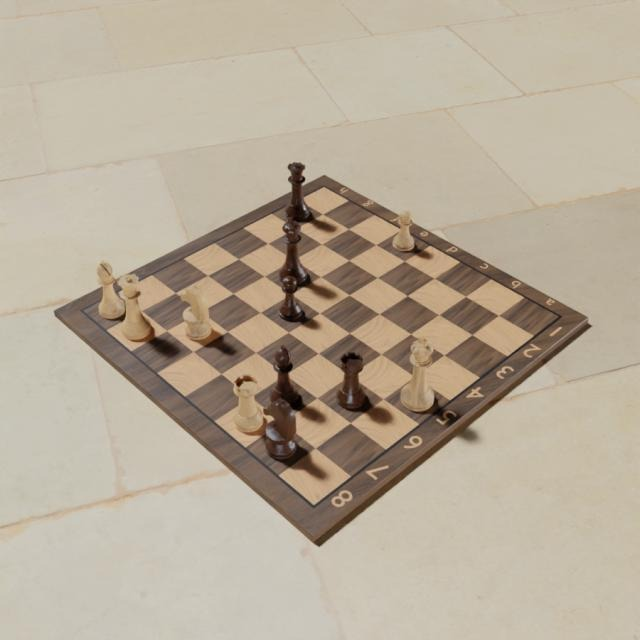black-bishop: (268, 343, 299, 409)
black-king: (277, 215, 307, 286)
black-knight: (262, 395, 298, 462)
black-pawn: (275, 274, 305, 323)
black-queen: (284, 159, 308, 221)
black-rook: (337, 349, 365, 411)
white-bishop: (96, 257, 126, 319)
white-king: (399, 337, 437, 412)
white-knight: (179, 282, 211, 341)
white-pawn: (389, 210, 415, 254)
white-queen: (116, 271, 154, 342)
white-rook: (230, 373, 265, 436)
